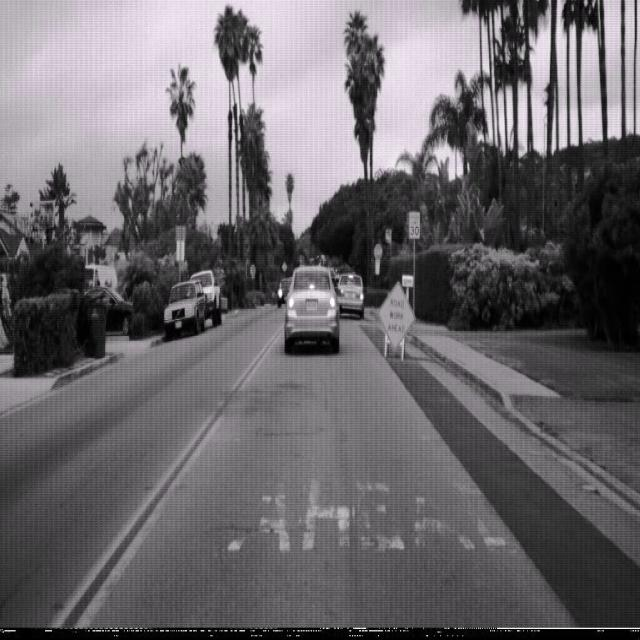speedLimit30: (408, 210, 420, 239)
